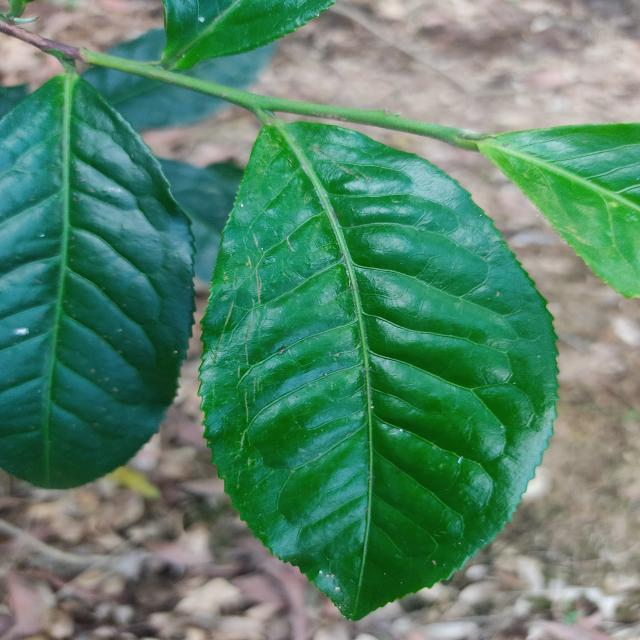Category D(7+ days, Not for Tea): (189, 110, 577, 635)
